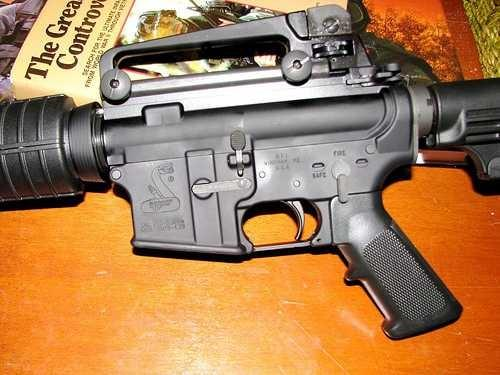heavyweapon: (0, 7, 488, 331)
